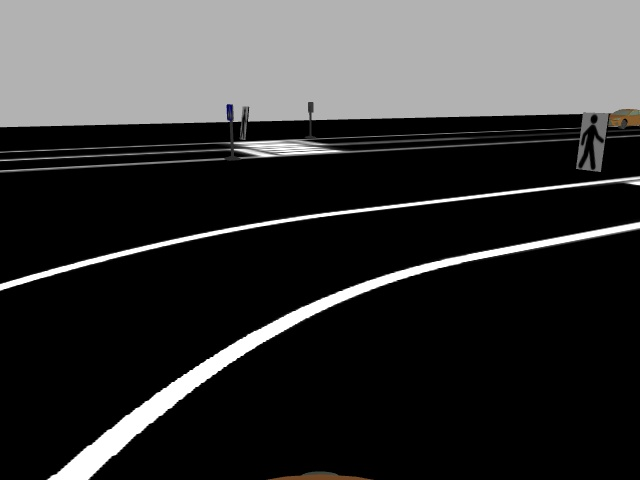pedestrian: (575, 108, 607, 173)
